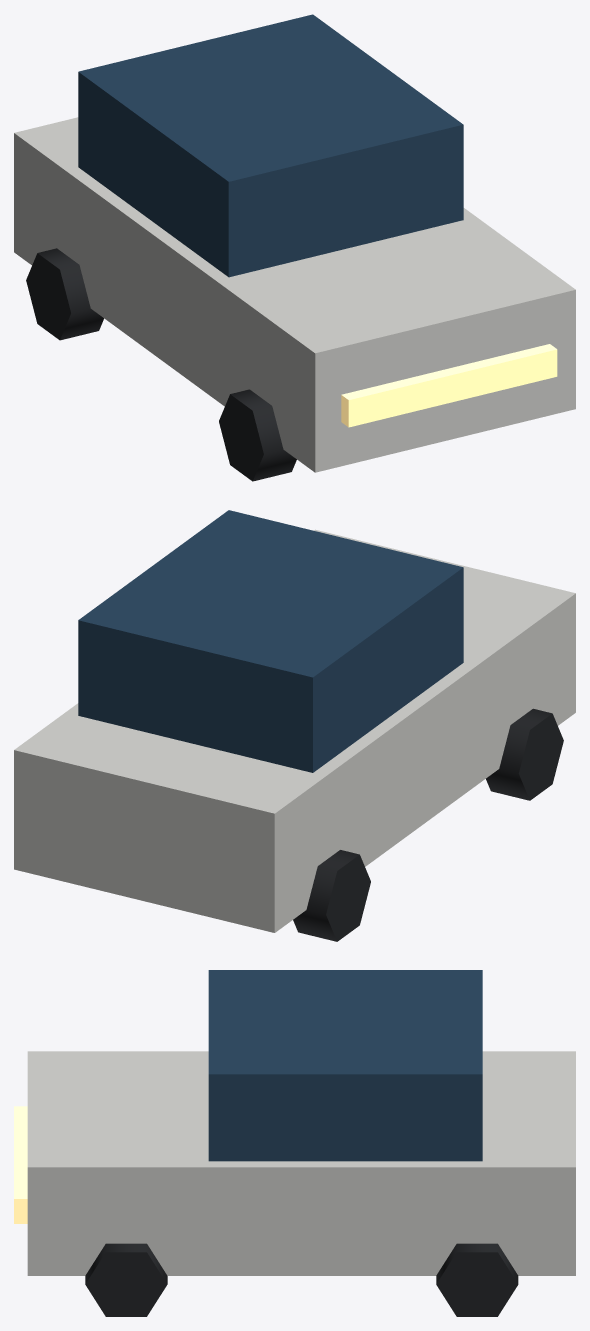
Rendered from vehicle_car_white.glb.
The picture shows the model from 3 angles, top to bottom: view 1: azimuth 30°, elevation 25°; view 2: azimuth 150°, elevation 25°; view 3: azimuth 270°, elevation 25°; orthographic projection. The views are drawn at different scales.
Visible parts, largest first — view 1: vehicle_car_white; view 2: vehicle_car_white; view 3: vehicle_car_white.
Part boxes in pixels (x1,y1,x2,y2): vehicle_car_white: (14,14,575,481); vehicle_car_white: (14,510,575,941); vehicle_car_white: (14,970,575,1316).
Size of the model in its own units: 0.092 by 0.0734 by 0.164.
